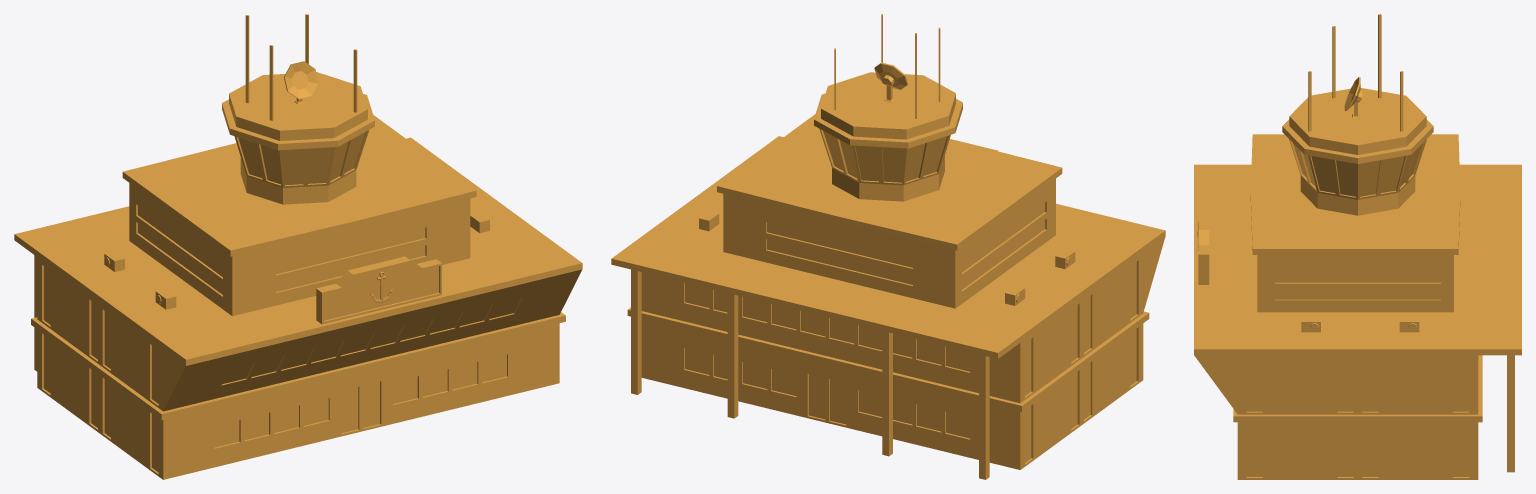
The model's file is building-port-sea.fbx.
3 renders of one model, left to right at view 1: azimuth 30°, elevation 25°; view 2: azimuth 150°, elevation 25°; view 3: azimuth 270°, elevation 25°, orthographic. The views are drawn at different scales.
Visible parts, largest first — view 1: building-port-sea; view 2: building-port-sea; view 3: building-port-sea.
Boxes of the visible parts, x1=… form: building-port-sea: x1=14, y1=14, x2=582, y2=479; building-port-sea: x1=611, y1=14, x2=1165, y2=479; building-port-sea: x1=1194, y1=14, x2=1521, y2=479.
Size of the model in its own units: 27.2 by 23.87 by 20.
